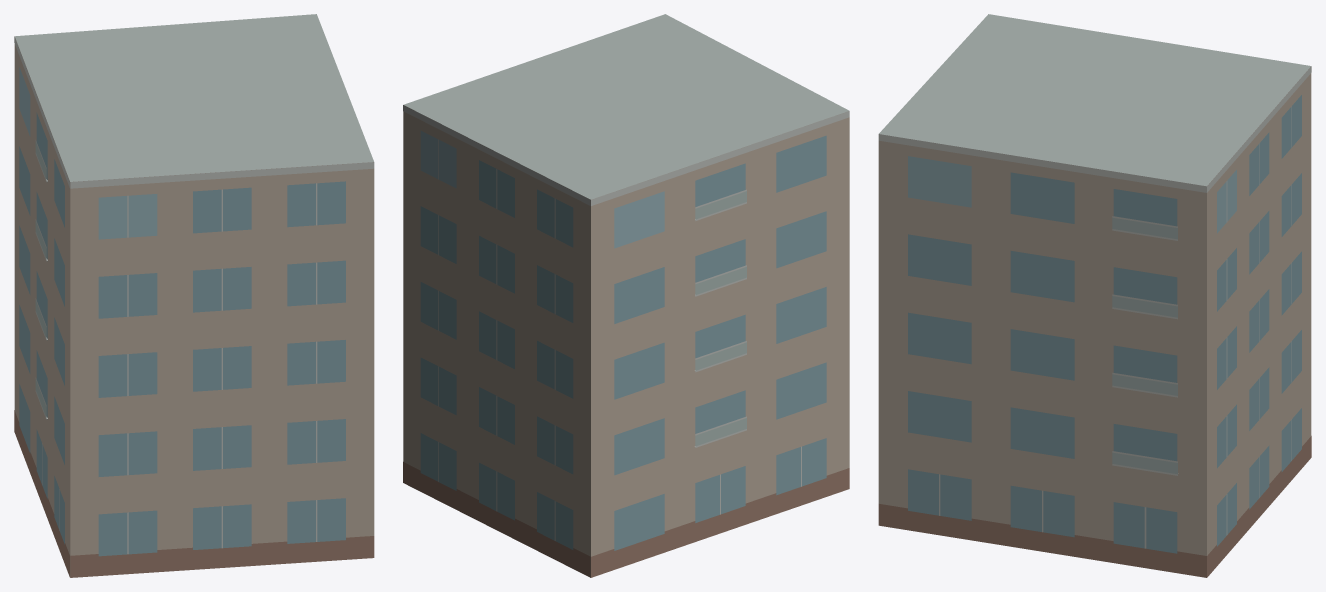
The model's file is survey-upis-32946322.glb.
3 renders of one model, left to right at view 1: azimuth 30°, elevation 25°; view 2: azimuth 150°, elevation 25°; view 3: azimuth 270°, elevation 25°, orthographic. The views are drawn at different scales.
Parts seen in each view (by area): view 1: survey-upis-32946322.tmp; view 2: survey-upis-32946322.tmp; view 3: survey-upis-32946322.tmp.
Boxes of the visible parts, x1,y1,x2,y2 form: survey-upis-32946322.tmp: (14,14,374,577); survey-upis-32946322.tmp: (403,14,849,577); survey-upis-32946322.tmp: (878,14,1311,577).
Bounding box in the file's own units: 13.55 × 14.35 × 14.39.
